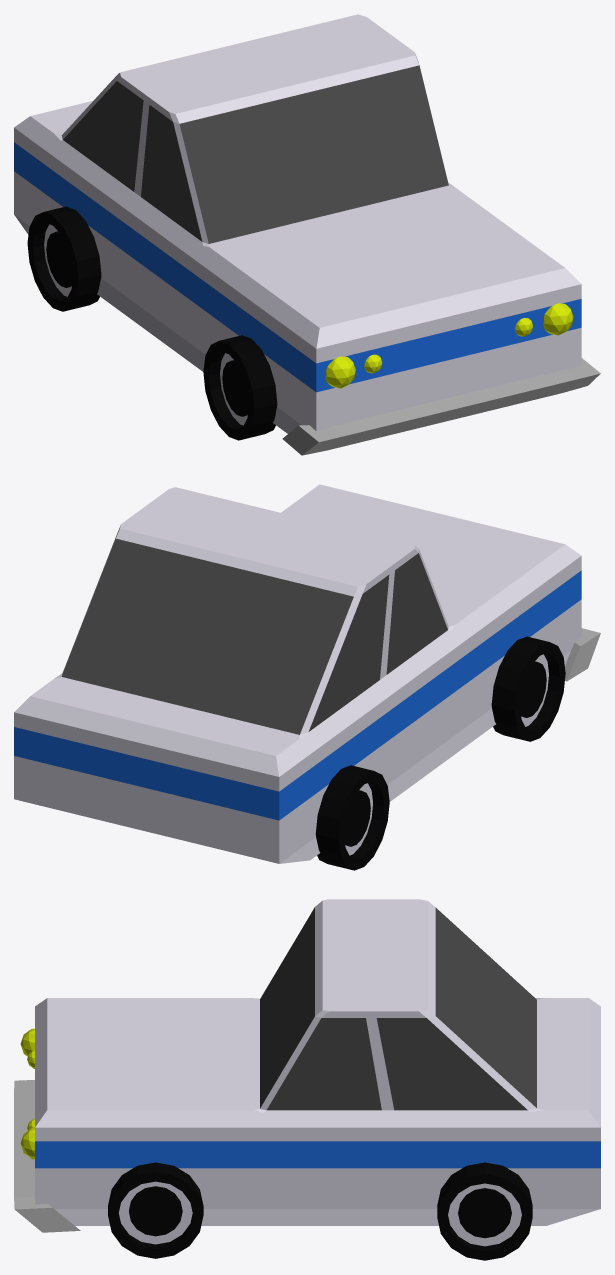
Rendered from f_car_01.fbx.
3 renders of one model, top to bottom at view 1: azimuth 30°, elevation 25°; view 2: azimuth 150°, elevation 25°; view 3: azimuth 270°, elevation 25°, orthographic. The views are drawn at different scales.
Parts seen in each view (by area): view 1: Plane.002; view 2: Plane.002; view 3: Plane.002.
Boxes of the visible parts, x1,y1,x2,y2 form: Plane.002: [14, 14, 600, 455]; Plane.002: [14, 484, 600, 870]; Plane.002: [14, 899, 600, 1260].
Bounding box in the file's own units: 177 × 134 × 306.
